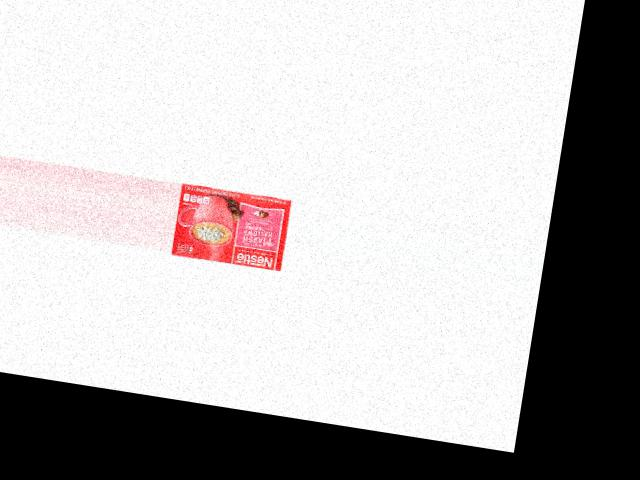chocolate: (170, 178, 289, 268)
